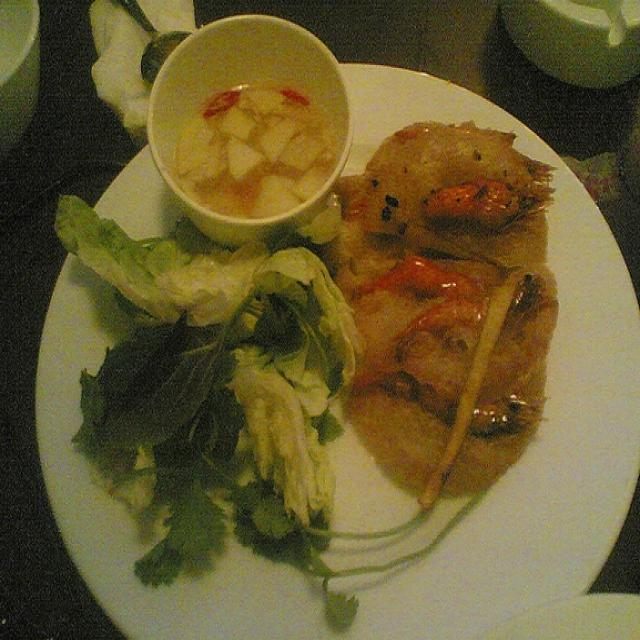炸货点心: (20, 13, 631, 631)
熟制海鲜: (20, 13, 631, 631)
